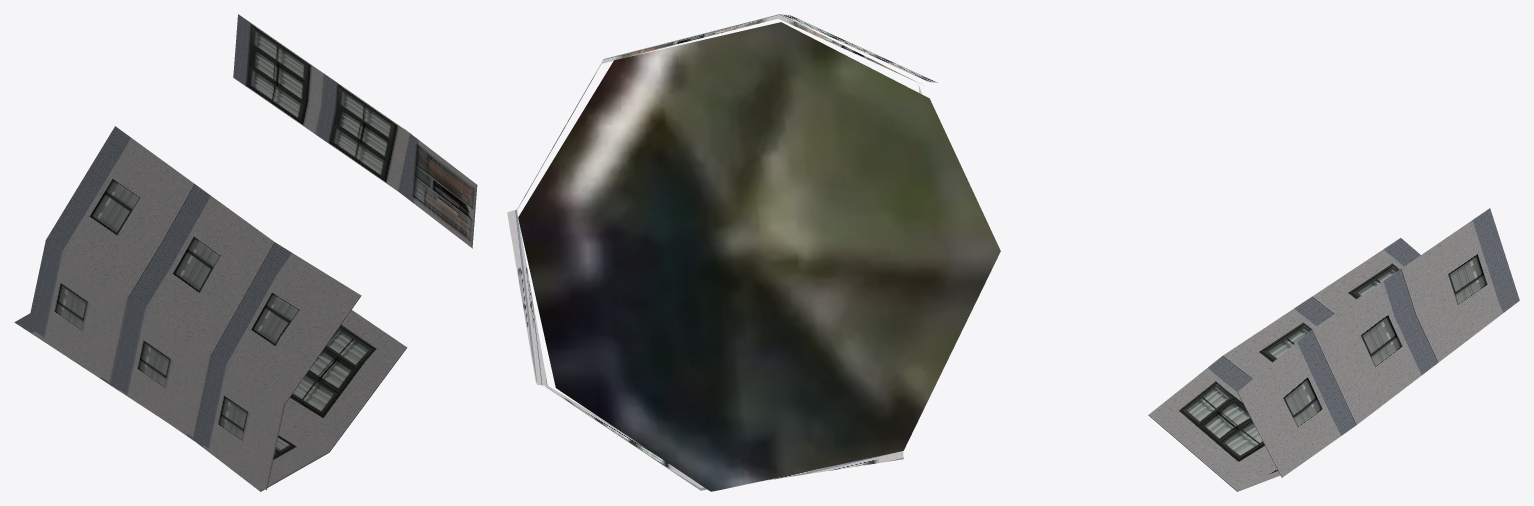
File: tile_LOD4_r4_c0.glb
The picture shows the model from 3 angles, left to right: view 1: azimuth 30°, elevation 25°; view 2: azimuth 150°, elevation 25°; view 3: azimuth 270°, elevation 25°; orthographic projection. The views are drawn at different scales.
Bounding box in the file's own units: 16.5 × 15.75 × 16.5.
Materials: 5 (5 with a texture image).
